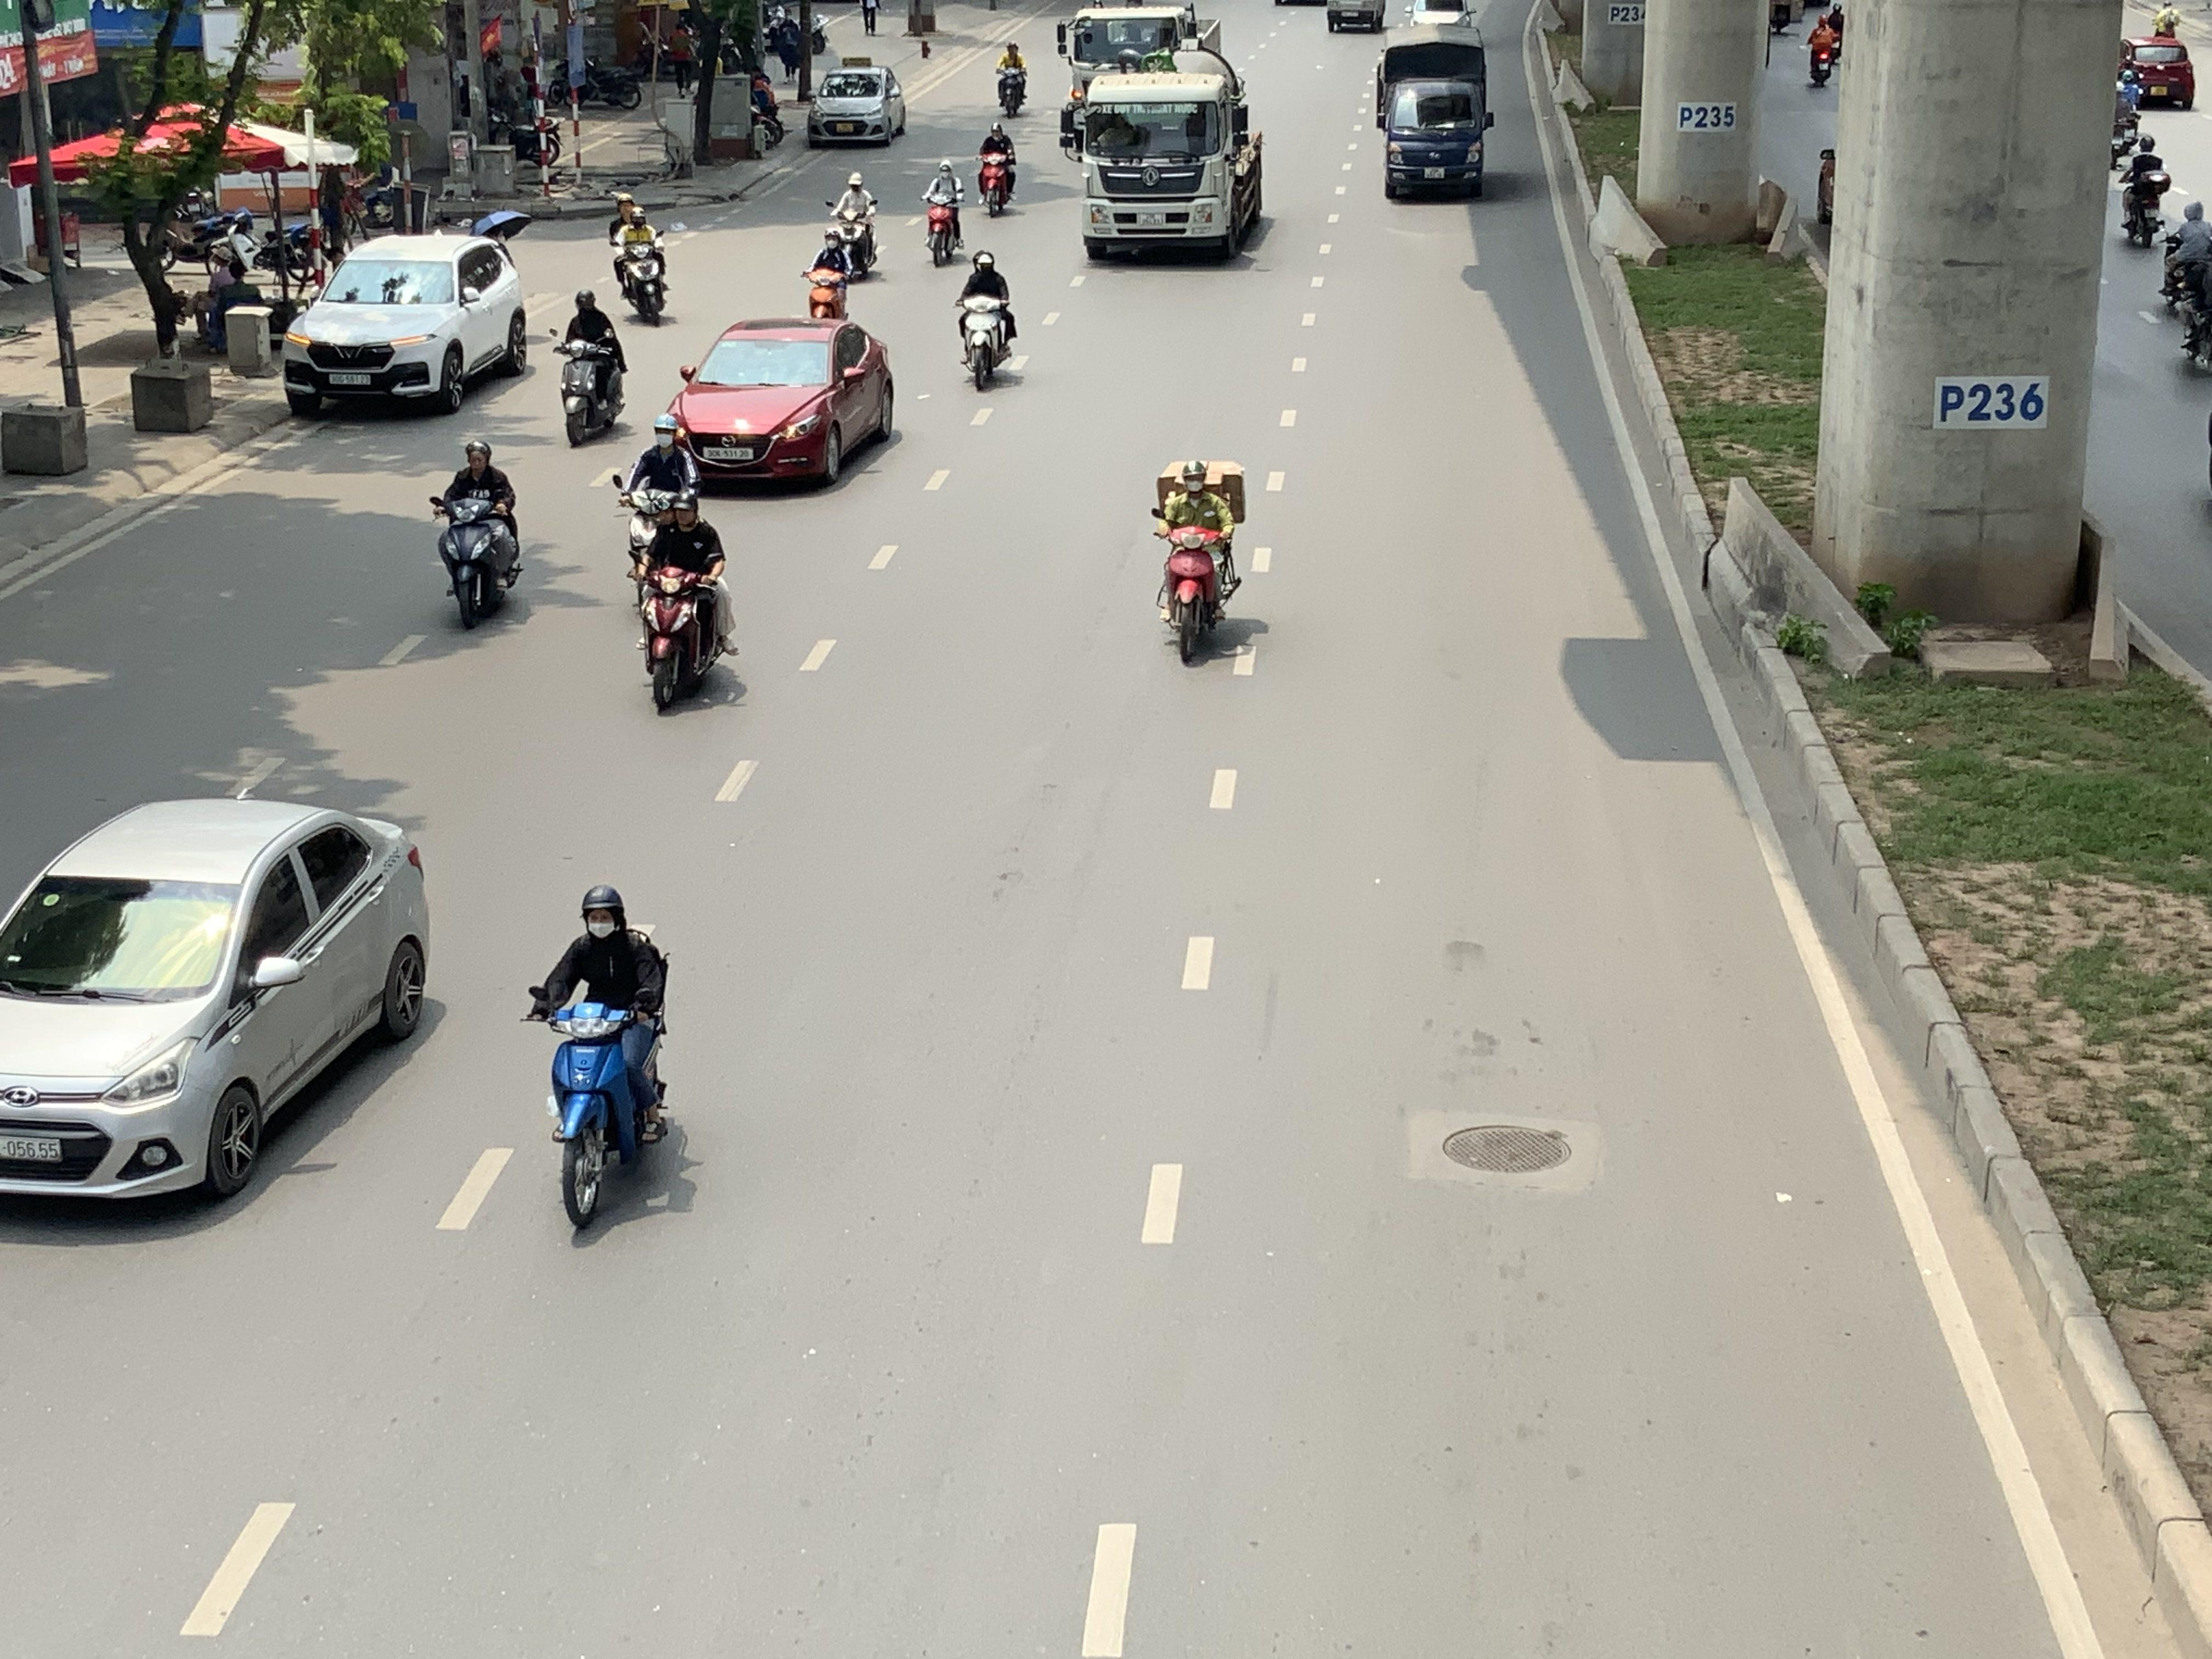BSD: (0, 1136, 63, 1161), (704, 446, 752, 458), (329, 373, 371, 385)
car: (0, 796, 432, 1209), (282, 232, 531, 418), (665, 317, 897, 491), (806, 63, 907, 148), (2121, 37, 2196, 108)
motorbike: (531, 884, 674, 1241), (634, 488, 735, 716), (1153, 457, 1244, 667), (432, 436, 521, 631), (613, 413, 702, 584), (552, 288, 629, 450), (956, 249, 1019, 392), (610, 199, 671, 326), (2118, 132, 2172, 251), (826, 171, 881, 281), (2160, 200, 2212, 315), (2177, 234, 2212, 380), (921, 159, 967, 267), (803, 227, 853, 322), (975, 122, 1019, 216), (747, 68, 787, 155), (1806, 2, 1844, 87), (1055, 77, 1092, 162), (993, 38, 1029, 119)
truck: (1076, 51, 1266, 263), (1372, 30, 1494, 202), (1069, 2, 1226, 92)
